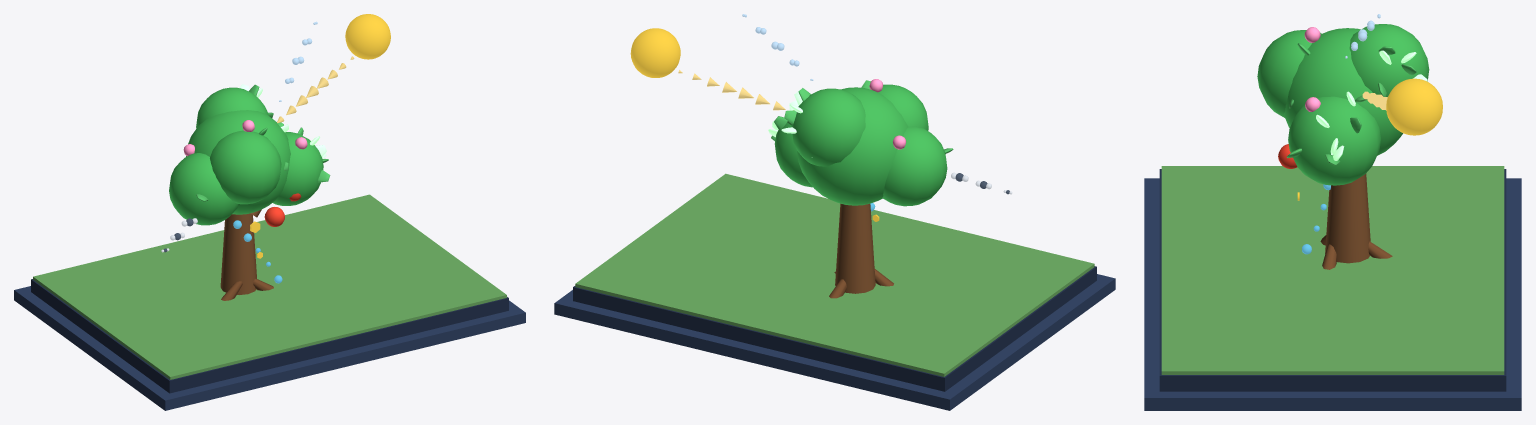
The model's file is energi-fotosintesis.glb.
The picture shows the model from 3 angles, left to right: view 1: azimuth 30°, elevation 25°; view 2: azimuth 150°, elevation 25°; view 3: azimuth 270°, elevation 25°; orthographic projection. The views are drawn at different scales.
Bounding box in the file's own units: 5.1 × 3.52 × 3.7.
